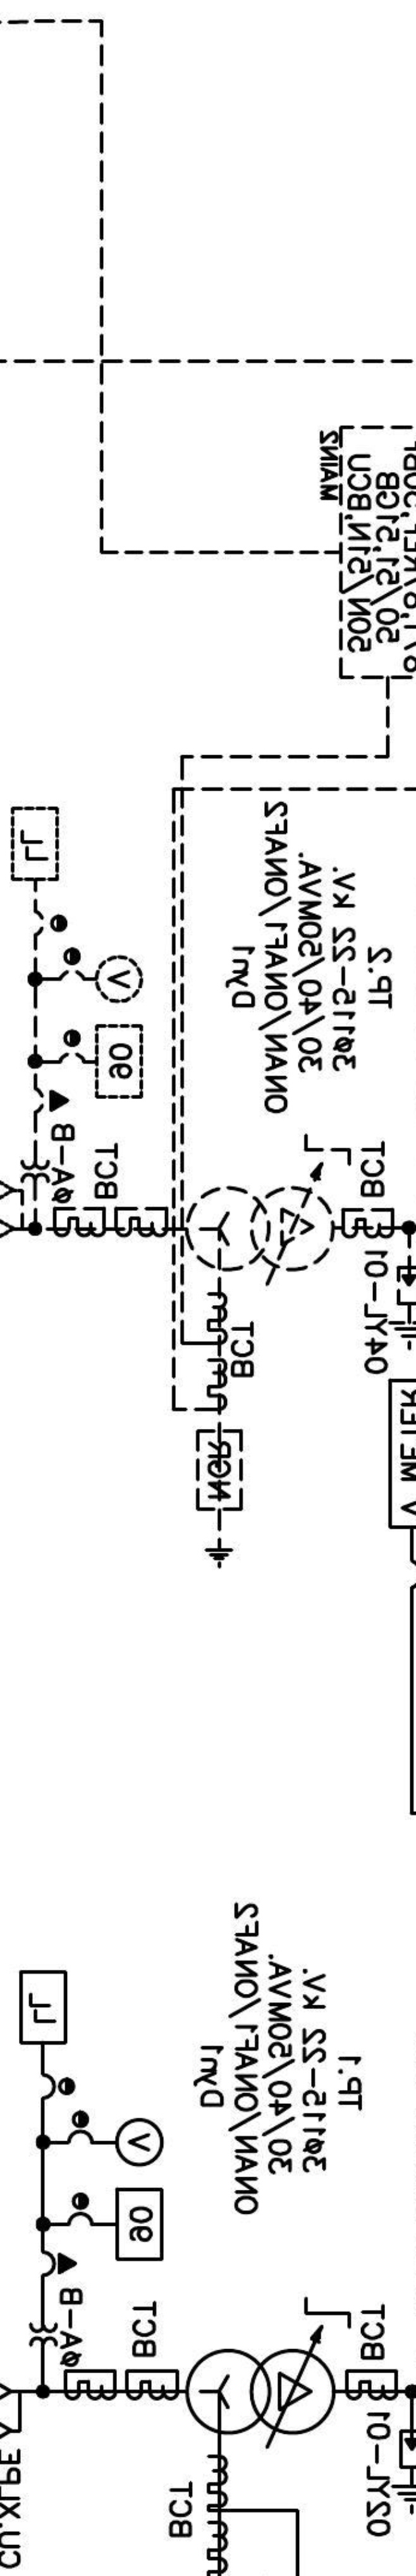11522_tx_dyn1: (184, 2348, 337, 2436)
LL: (18, 1968, 67, 2045)
v_m: (115, 2116, 164, 2169)
